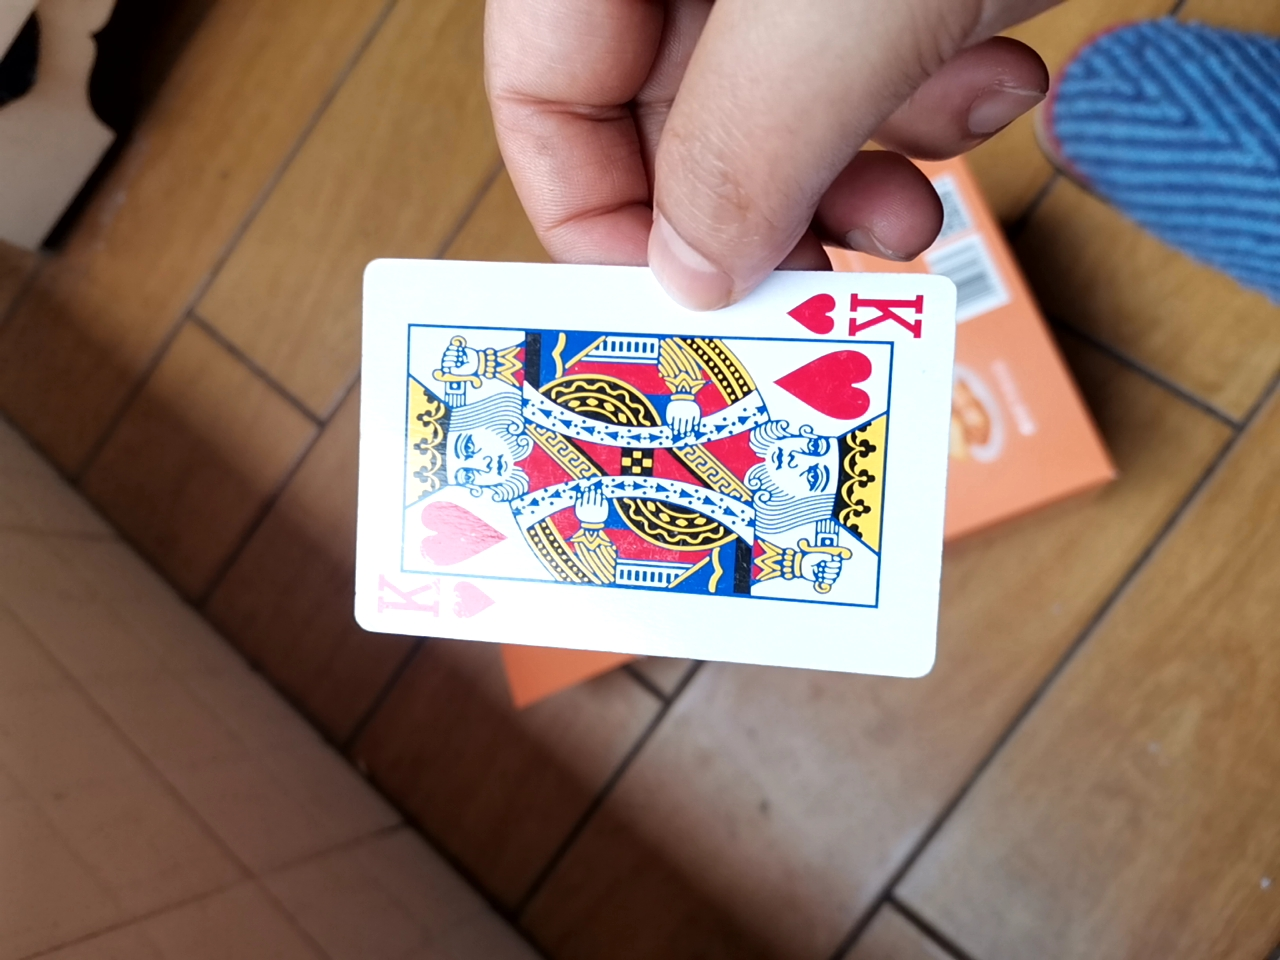hx k: (332, 243, 967, 675)
